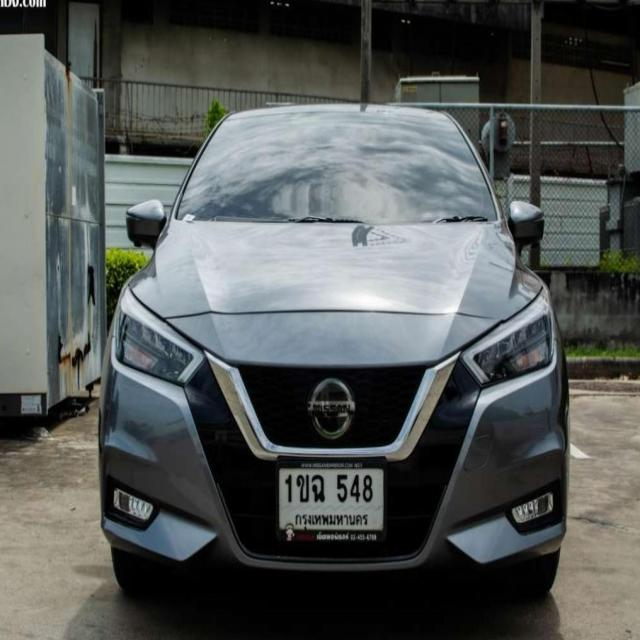license_plate: (275, 459, 390, 543)
